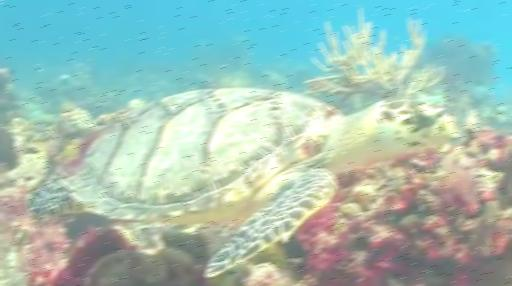Fish: (29, 88, 458, 276)
